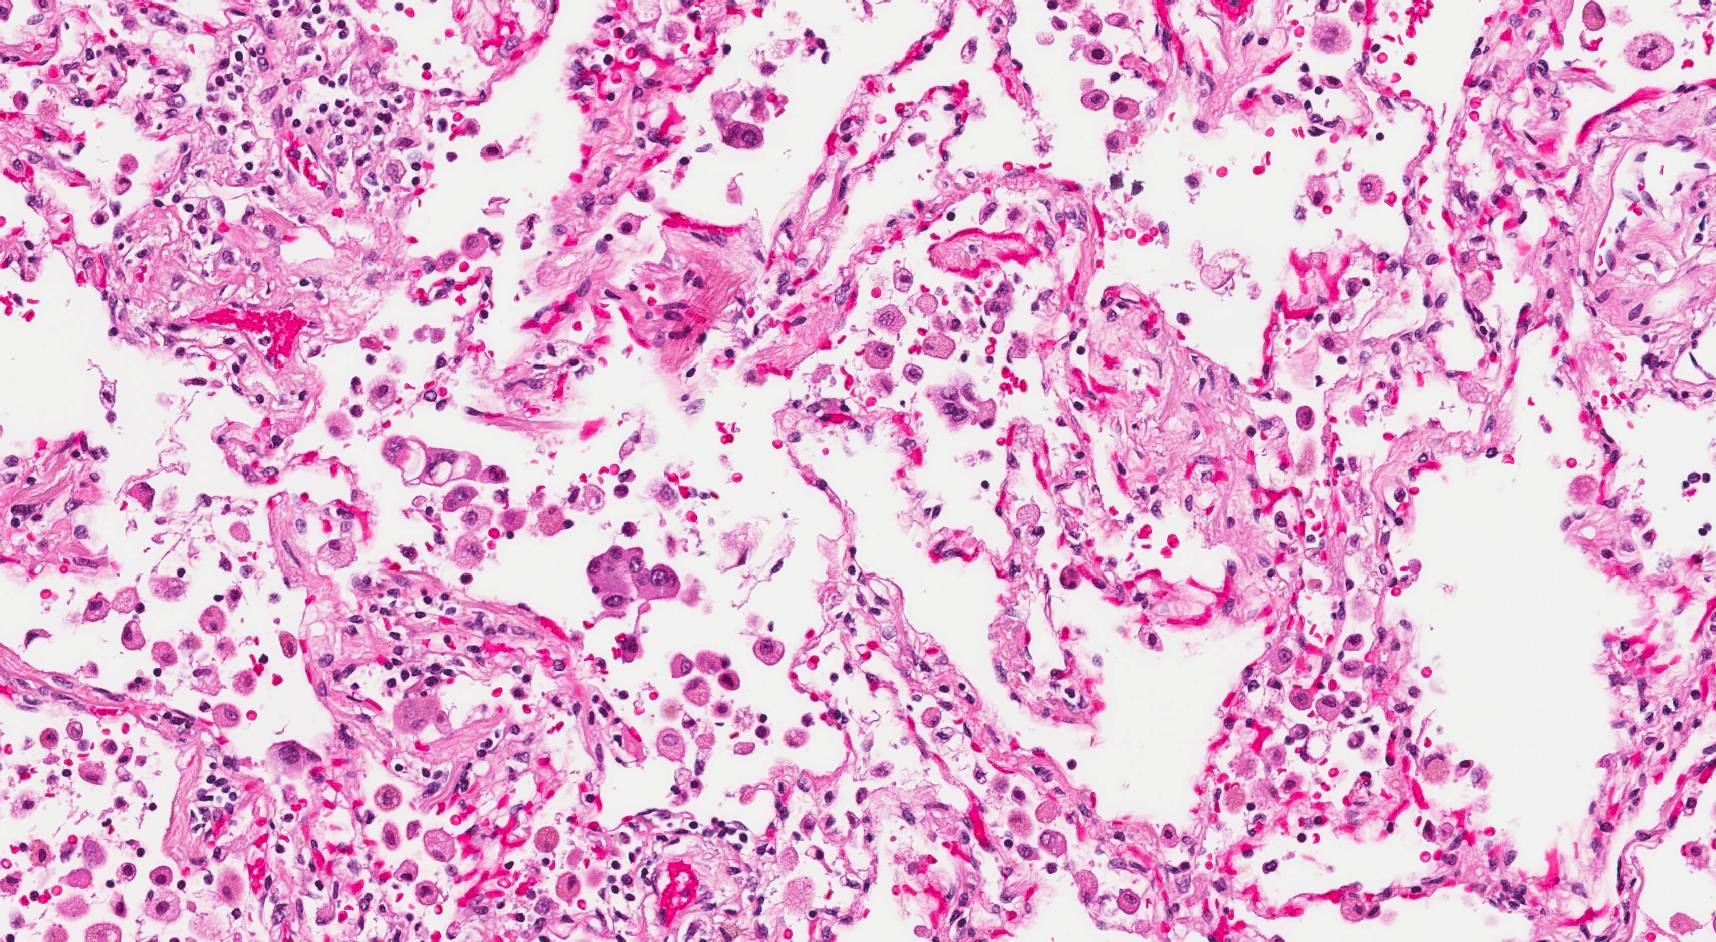stas: (587, 544, 682, 611), (383, 432, 483, 488)
